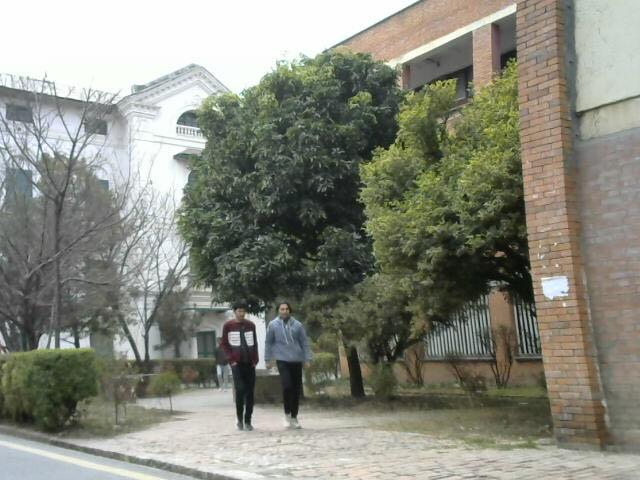Building: (521, 0, 640, 459)
Person: (264, 295, 320, 434), (222, 304, 269, 436)
Tree: (8, 77, 259, 384), (205, 69, 417, 301), (373, 74, 586, 301)
